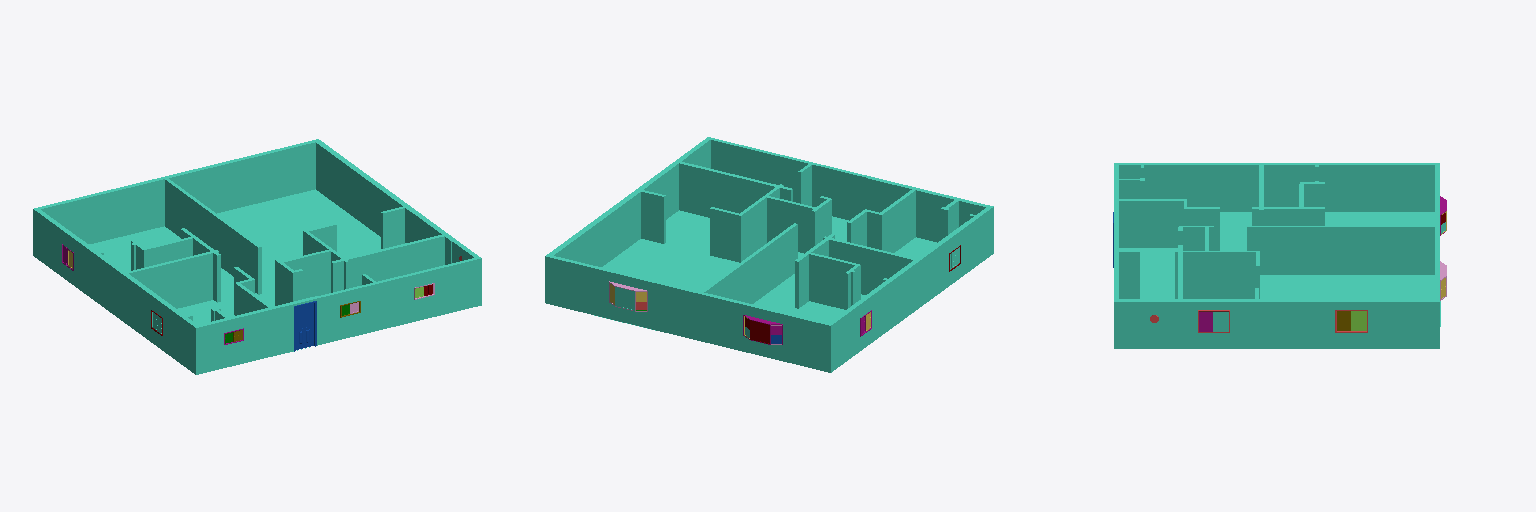
The picture shows the model from 3 angles: view 1: azimuth 30°, elevation 25°; view 2: azimuth 150°, elevation 25°; view 3: azimuth 270°, elevation 25°; orthographic projection.
Parts seen in each view (by area): view 1: Layer0_001, Framed_half_door_with_double_panel_and_window_with_grate_001; view 2: Layer0_001; view 3: Layer0_001.
Boxes of the visible parts, box(x1,y1,x2,y2) form: Layer0_001: box(33, 139, 481, 374); Framed_half_door_with_double_panel_and_window_with_grate_001: box(294, 301, 316, 351); Layer0_001: box(545, 137, 993, 372); Layer0_001: box(1114, 163, 1440, 348).
Bounding box in the file's own units: 569 × 89.37 × 575.